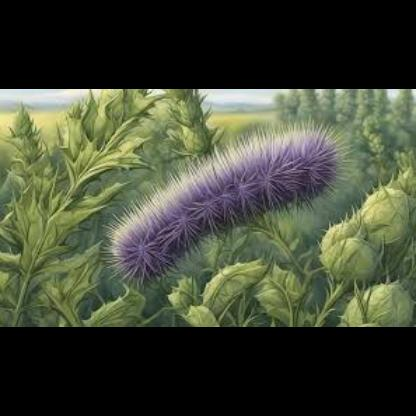oruga: (110, 114, 370, 290)
